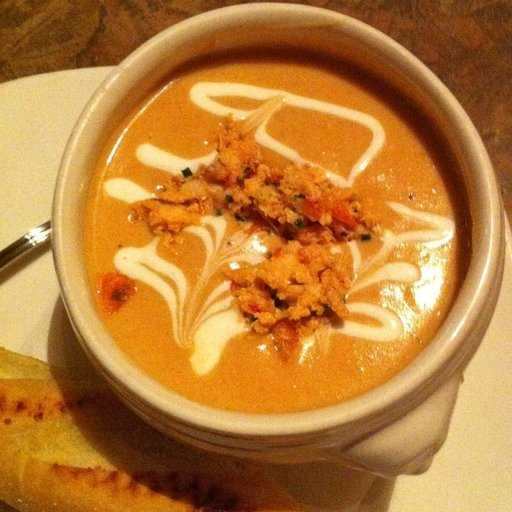soup: (92, 50, 445, 394)
